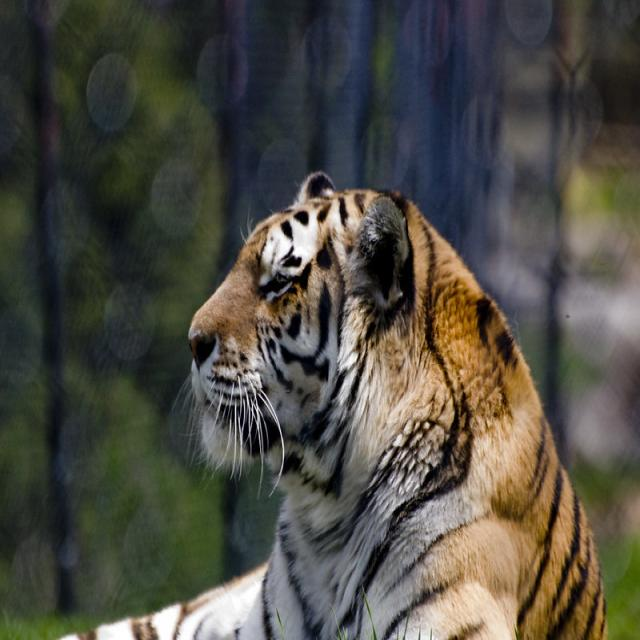Tiger: (126, 157, 588, 636)
